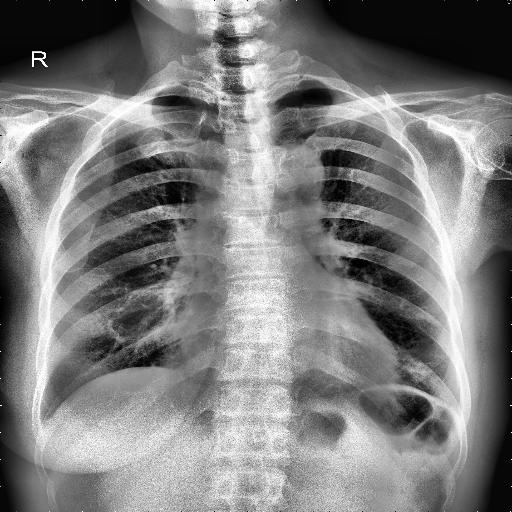0- Aortic enlargement: (254, 146, 324, 205), (260, 144, 325, 201), (260, 148, 324, 204)
